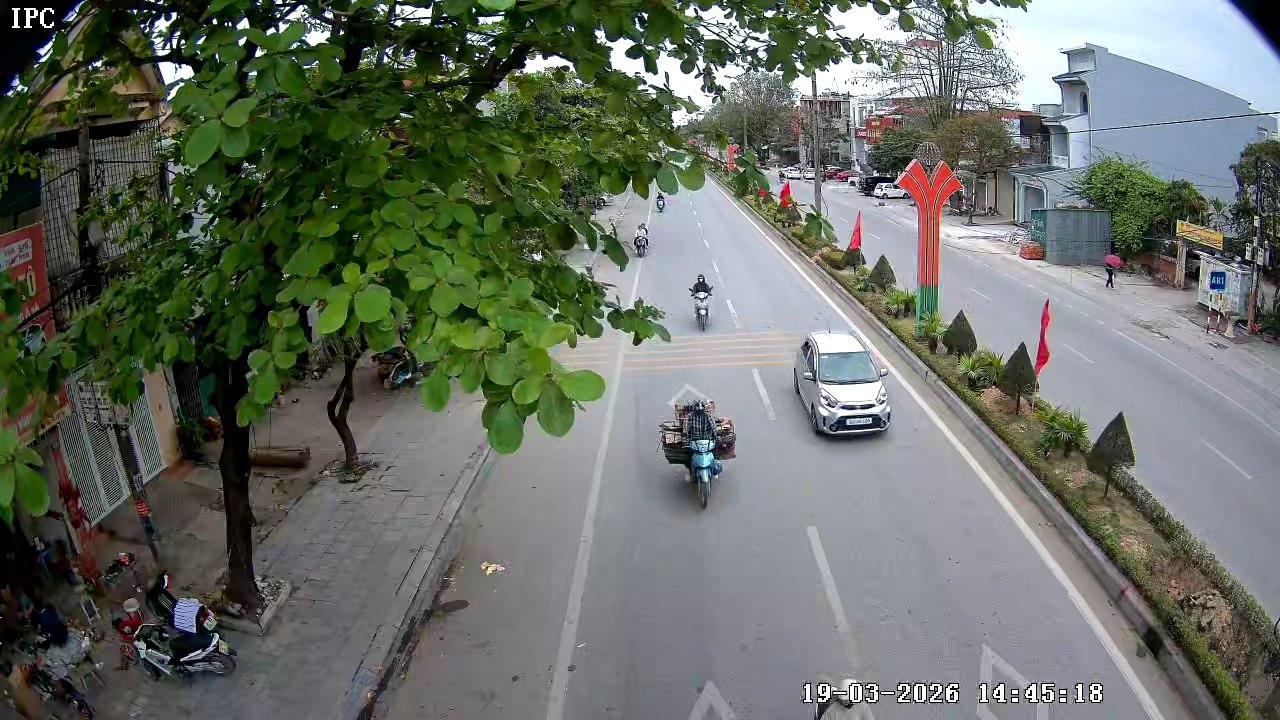bus: (1051, 39, 1099, 85)
car: (793, 330, 891, 436)
motorbike: (132, 586, 240, 683), (663, 391, 735, 511), (687, 271, 717, 332), (633, 216, 653, 258), (650, 190, 668, 215)
